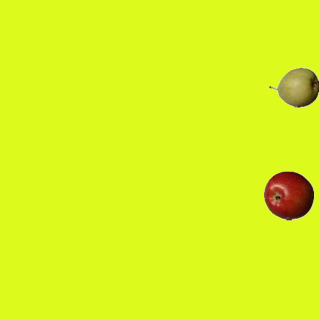Apple Braeburn: (263, 170, 313, 220)
Pear: (268, 62, 318, 112)
